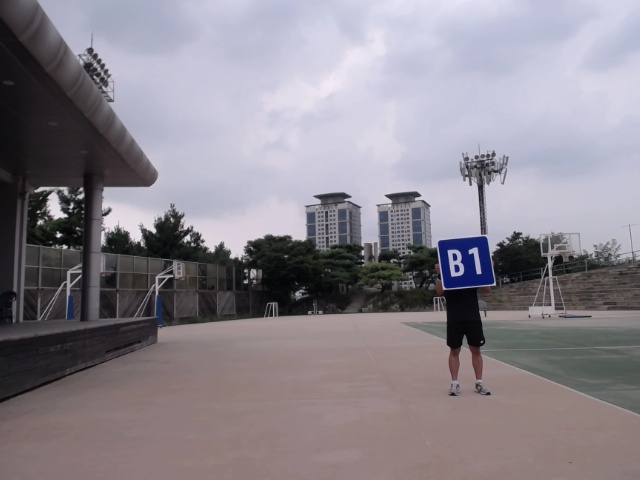delivery_b1: (438, 236, 495, 289)
